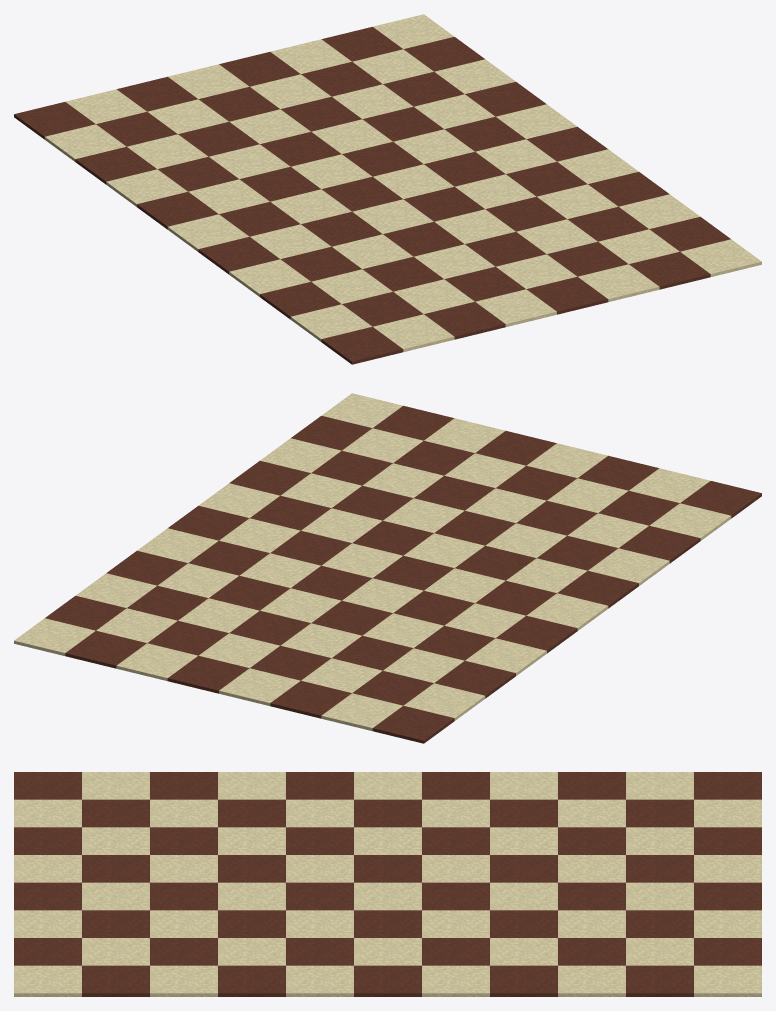
The model's file is alfombra-shaggy-cuadros-rojo.glb.
The picture shows the model from 3 angles, top to bottom: view 1: azimuth 30°, elevation 25°; view 2: azimuth 150°, elevation 25°; view 3: azimuth 270°, elevation 25°; orthographic projection. The views are drawn at different scales.
Visible parts, largest first — view 1: alfombra-shaggy-cuadros-rojo; view 2: alfombra-shaggy-cuadros-rojo; view 3: alfombra-shaggy-cuadros-rojo.
Part boxes in pixels (<box>): alfombra-shaggy-cuadros-rojo: <box>14,14,761,364</box>; alfombra-shaggy-cuadros-rojo: <box>14,393,761,743</box>; alfombra-shaggy-cuadros-rojo: <box>14,772,761,996</box>.
Size of the model in its own units: 1.4 by 0.01 by 2.
2 materials, 2 textured.
